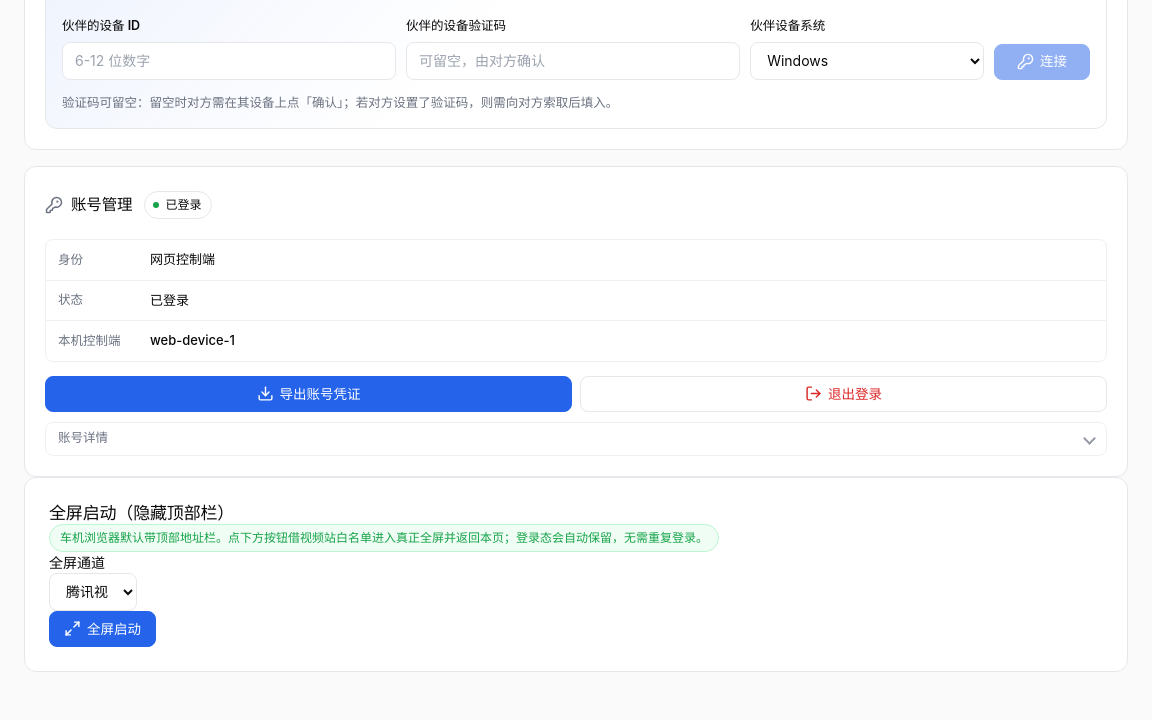
App console › logs out from account management and returns to the login entry
(page scrolled)
Click the button "退出登录" at {"x": 844, "y": 394}, box x1=580 y1=376 x2=1107 y2=412
(page scrolled)
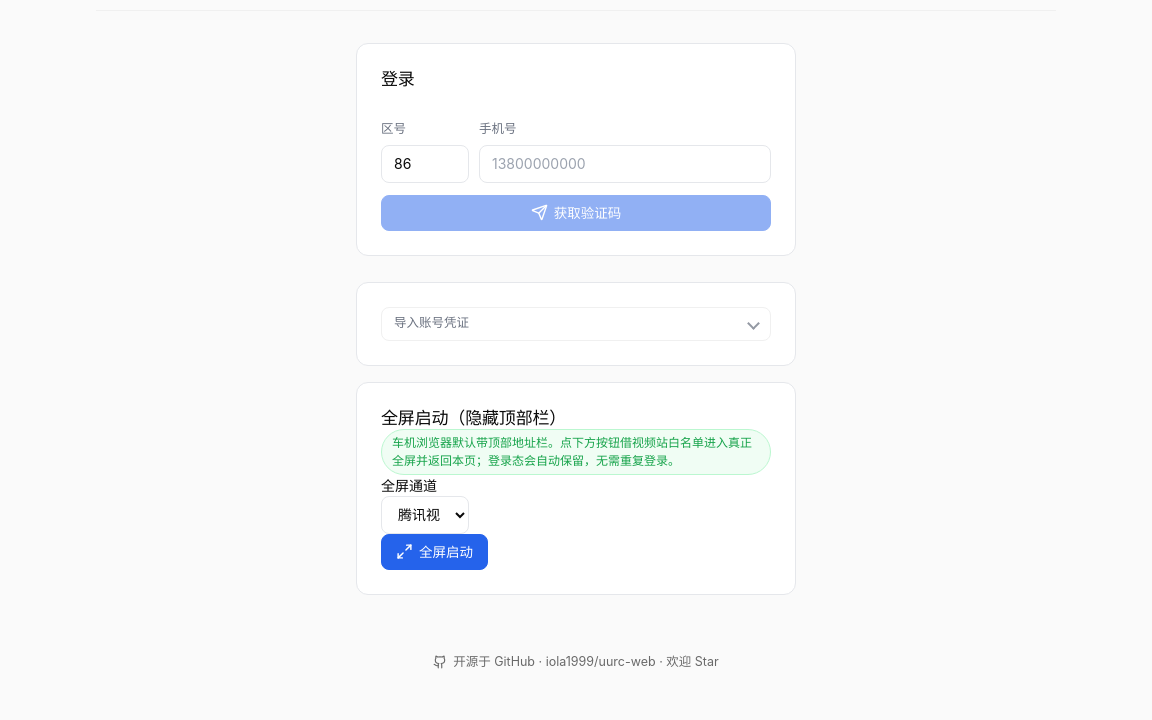
Expected: the heading "登录" is shown, x1=381 y1=69 x2=415 y2=89
Now the heading "导入账号凭证" is shown, box x1=381 y1=307 x2=771 y2=341
